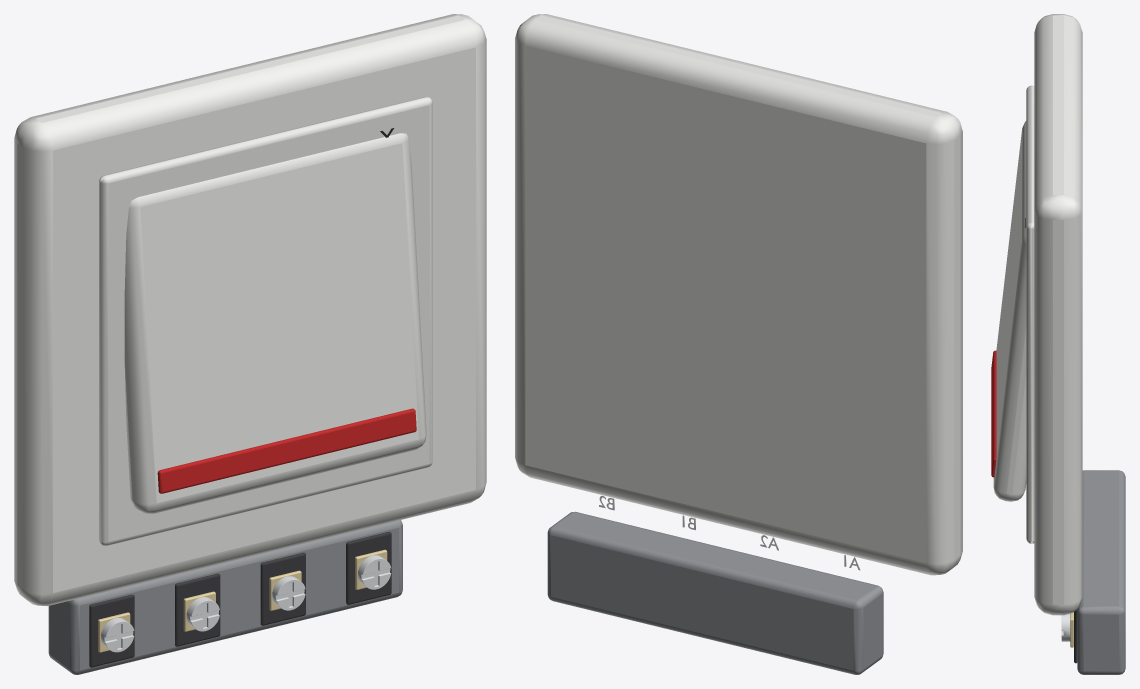
File: swi_1.glb
3 views of the same model, side by side, from view 1: azimuth 30°, elevation 25°; view 2: azimuth 150°, elevation 25°; view 3: azimuth 270°, elevation 25° (orthographic). The views are drawn at different scales.
Parts seen in each view (by area): view 1: body, mech; view 2: body, mech; view 3: body, mech.
Boxes of the visible parts, x1,y1,x2,y2 form: body: (14, 14, 486, 606); mech: (48, 520, 402, 674); body: (515, 14, 962, 575); mech: (547, 495, 883, 674); body: (991, 14, 1082, 615); mech: (1061, 470, 1125, 674).
Bounding box in the file's own units: 0.086 × 0.103 × 0.025.
